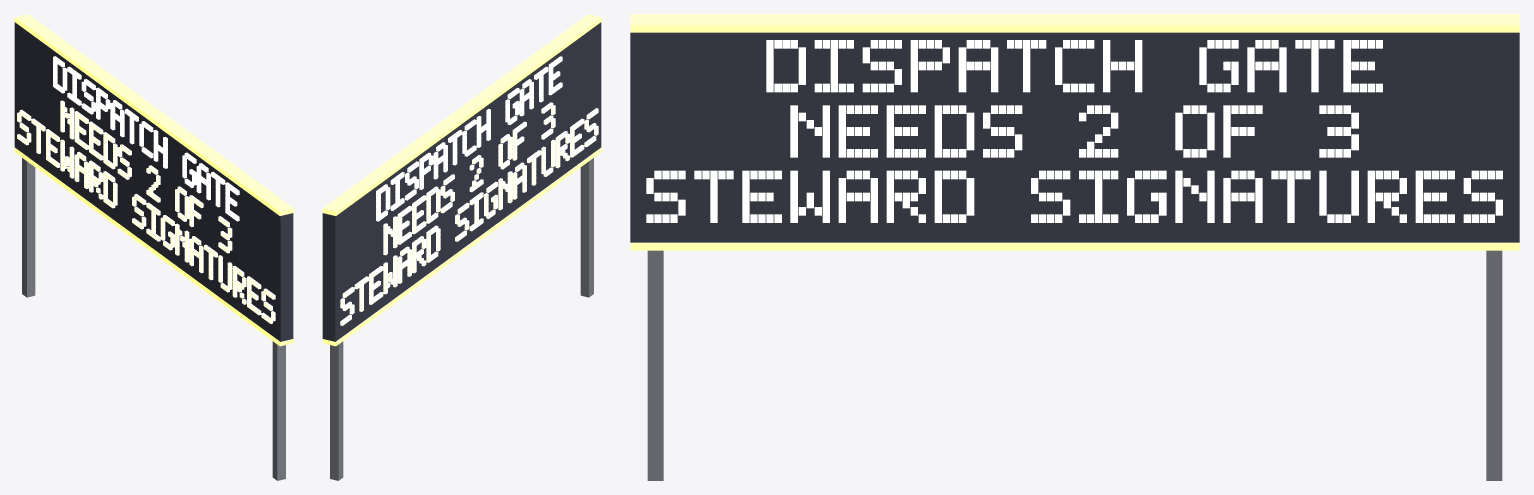
The model's file is wing-gate-sign.glb.
3 renders of one model, left to right at view 1: azimuth 30°, elevation 25°; view 2: azimuth 150°, elevation 25°; view 3: azimuth 270°, elevation 25°, orthographic. The views are drawn at different scales.
Visible parts, largest first — view 1: Sign · needs 2 of 3 steward signatures; view 2: Sign · needs 2 of 3 steward signatures; view 3: Sign · needs 2 of 3 steward signatures.
Part boxes in pixels (box(x1,y1,x2,y2)): Sign · needs 2 of 3 steward signatures: box(14, 14, 293, 480); Sign · needs 2 of 3 steward signatures: box(322, 14, 601, 480); Sign · needs 2 of 3 steward signatures: box(630, 14, 1519, 480).
Size of the model in its own units: 0.3344 by 4.96 by 8.74.
